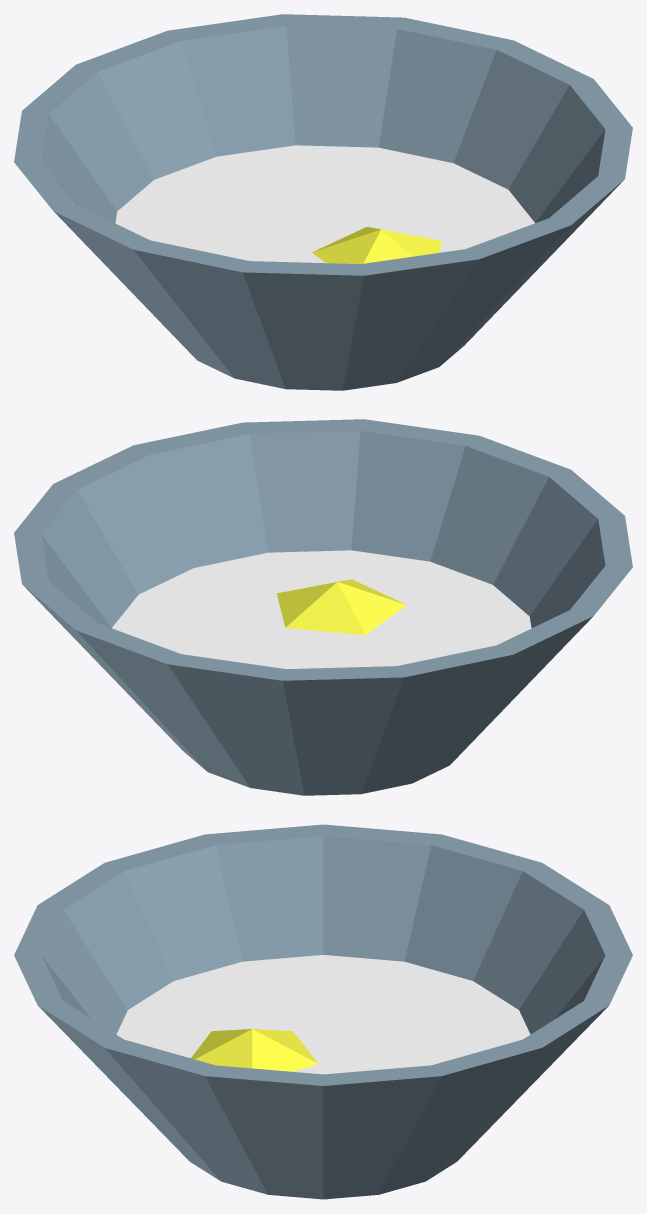
Rendered from EggCracked.fbx.
3 renders of one model, top to bottom at view 1: azimuth 30°, elevation 25°; view 2: azimuth 150°, elevation 25°; view 3: azimuth 270°, elevation 25°, orthographic.
Visible parts, largest first — view 1: EggCracked; view 2: EggCracked; view 3: EggCracked.
Boxes of the visible parts, x1,y1,x2,y2 form: EggCracked: (14,14,632,390); EggCracked: (14,419,632,795); EggCracked: (14,824,632,1199).
Size of the model in its own units: 31.52 by 31.52 by 10.28.
